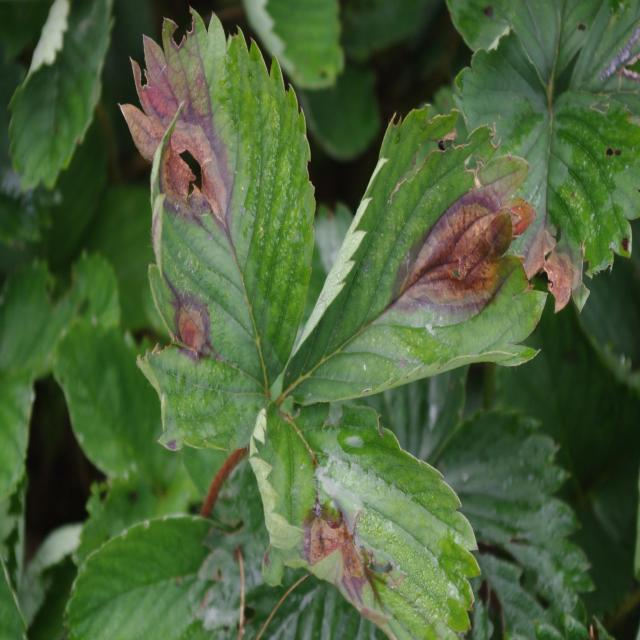blight: (140, 47, 248, 213), (396, 175, 518, 306), (296, 475, 396, 615)
